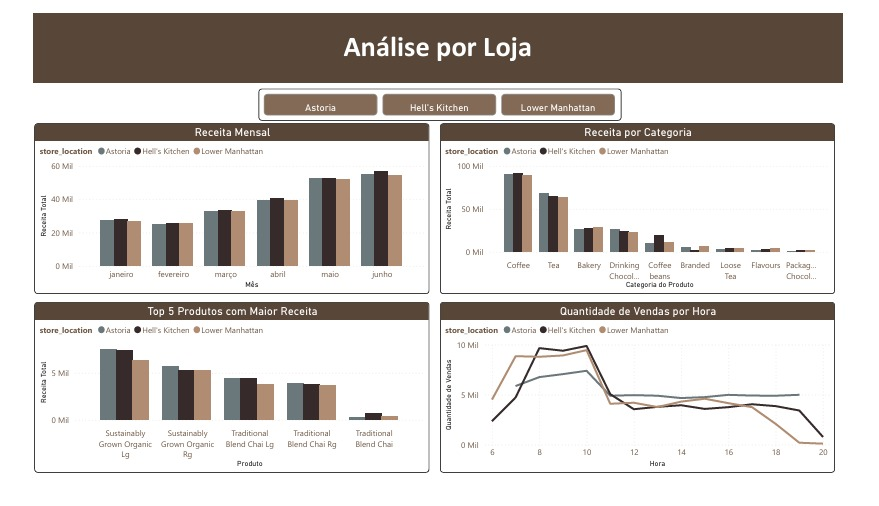

The page's visual inventory and layout, read from the dashboard file:
{"tool":"powerbi","page":{"name":"Lojas","canvas":[1280,720],"ordinal":1},"visuals":[{"type":"clusteredColumnChart","title":"Receita Mensal","fields":{"Category":["Transactions.transaction_date.Variation.Hierarquia de datas.Mês"],"Series":["Transactions.store_location"],"Y":["Transactions.Receita Total"]},"box":[32,164,592,256],"z":0},{"type":"textbox","box":[30,0,1213.3,105],"z":1000},{"type":"clusteredColumnChart","title":"Receita por Categoria","fields":{"Category":["Transactions.product_category"],"Y":["Transactions.Receita Total"],"Series":["Transactions.store_location"]},"box":[640,164,592,256],"z":2000},{"type":"clusteredColumnChart","title":"Top 5 Produtos com Maior Receita","fields":{"Category":["Transactions.product_detail"],"Y":["Transactions.Receita Total"],"Series":["Transactions.store_location"]},"box":[32,432,592,256],"z":3000},{"type":"advancedSlicerVisual","fields":{"Values":["Transactions.store_location"]},"box":[368,112,544,48],"z":5000},{"type":"lineChart","title":"Quantidade de Vendas por Hora","fields":{"Y":["Sum(Transactions.transaction_qty)"],"Category":["Transactions.Hora"],"Series":["Transactions.store_location"]},"box":[640,432,592,256],"z":5001}]}

Visuals, with their boxes in screenshot pixels (x1, y1, x2, y2), scaled from the page's 1280x720 canvas onto the 879x506 screenshot:
"Receita Mensal" clusteredColumnChart: box(22, 115, 429, 295)
textbox: box(21, 0, 854, 74)
"Receita por Categoria" clusteredColumnChart: box(440, 115, 846, 295)
"Top 5 Produtos com Maior Receita" clusteredColumnChart: box(22, 304, 429, 484)
advancedSlicerVisual - Transactions.store_location: box(253, 79, 626, 112)
"Quantidade de Vendas por Hora" lineChart: box(440, 304, 846, 484)
